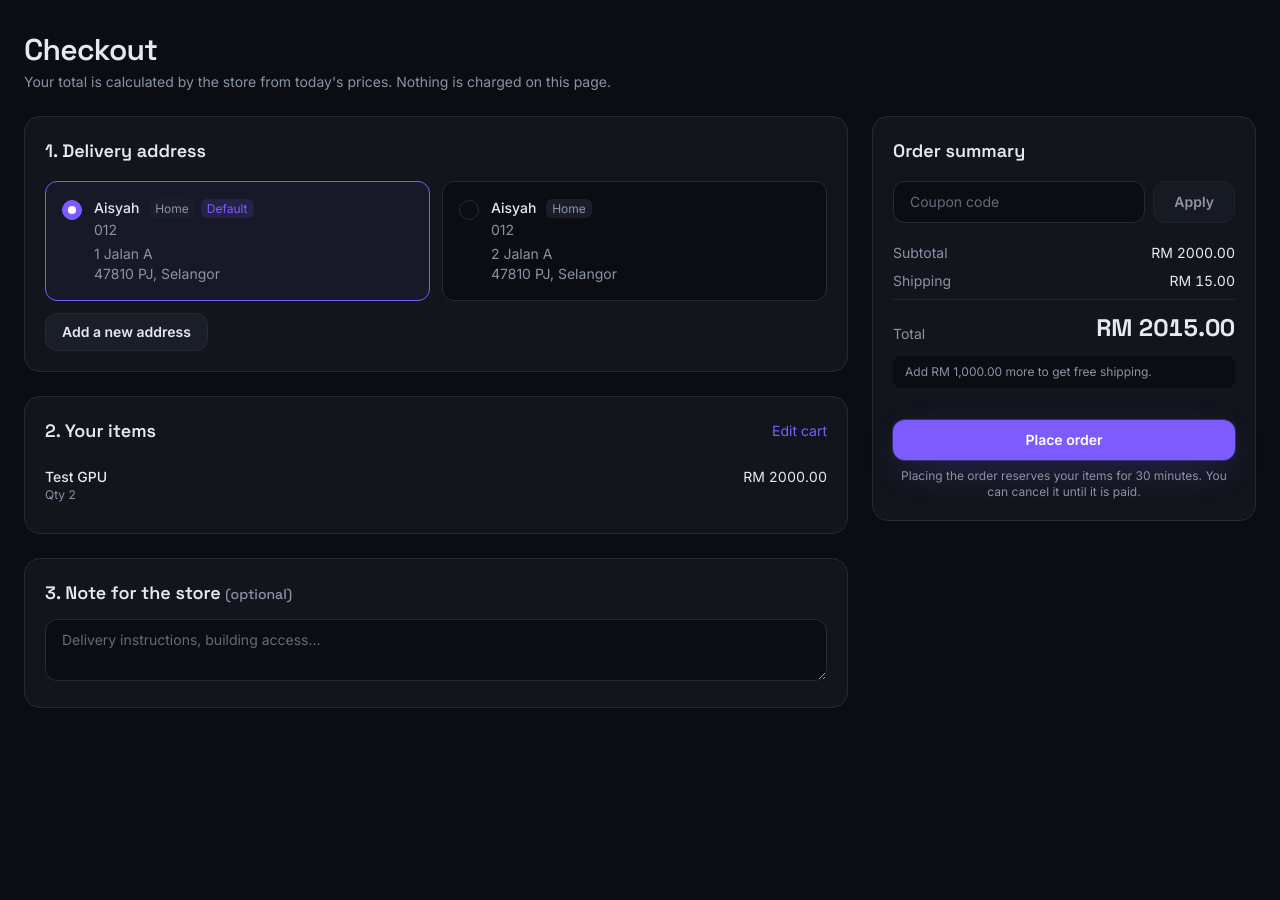
Test case: Checkout page › shows why a coupon was refused and keeps the order without it
Type "big" into the field with id "coupon-code". click: [1019, 202]
box: [893,181,1145,223]
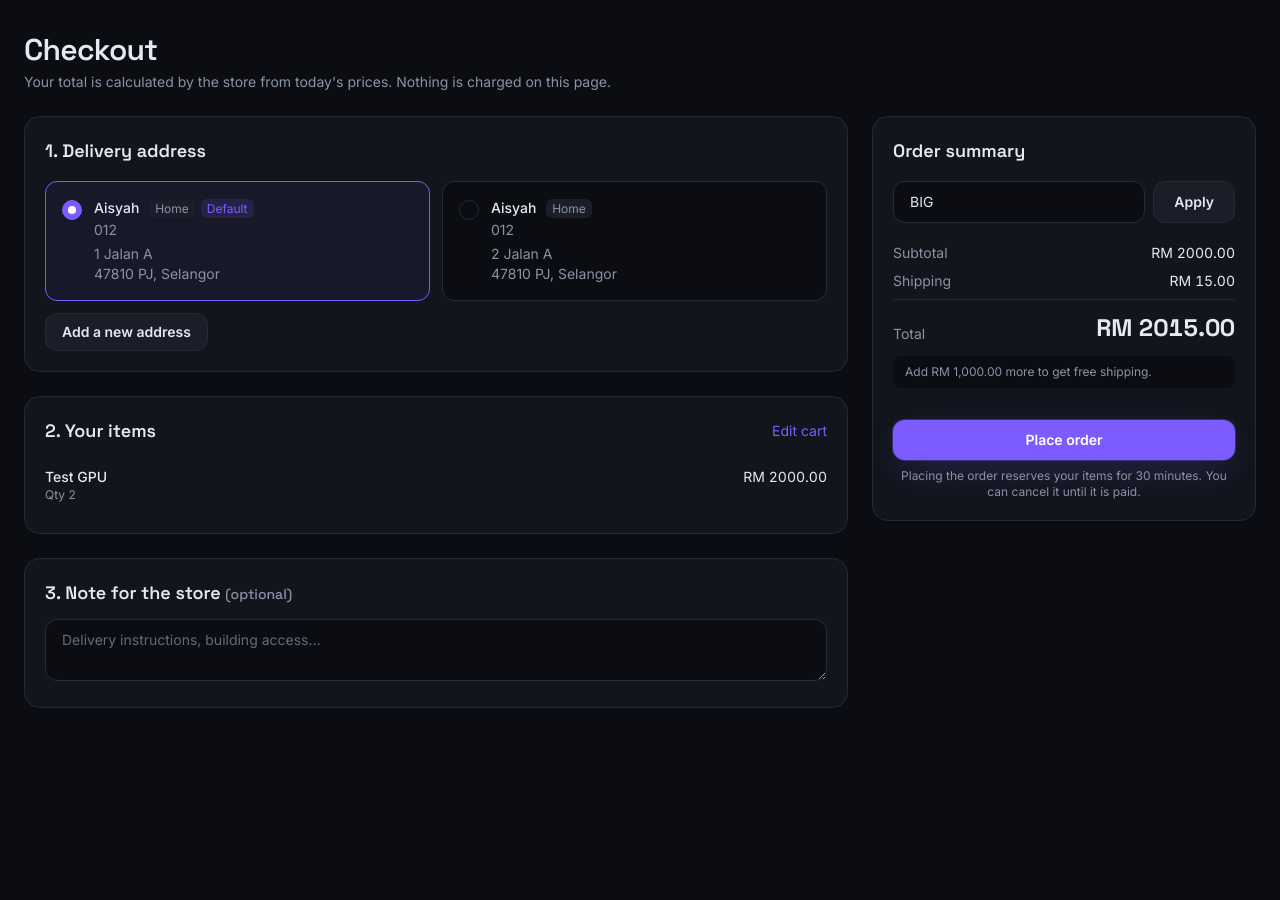
Submit the form, box [893,181,1235,223]
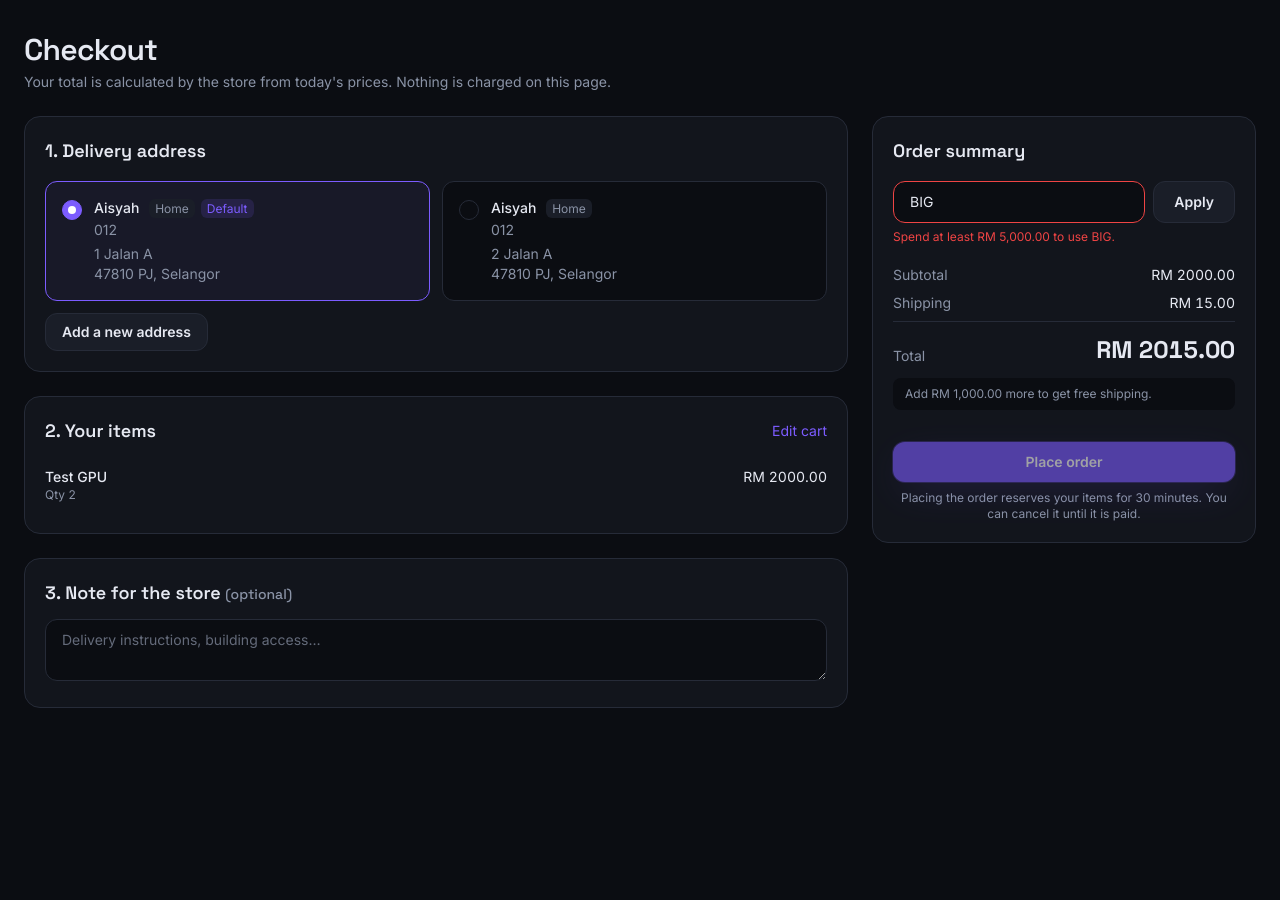
Result: the text "Spend at least RM 5,000.00 to use BIG." is shown at [893,229,1115,244]
Result: the button "Place order" is disabled at [893,442,1235,482]
